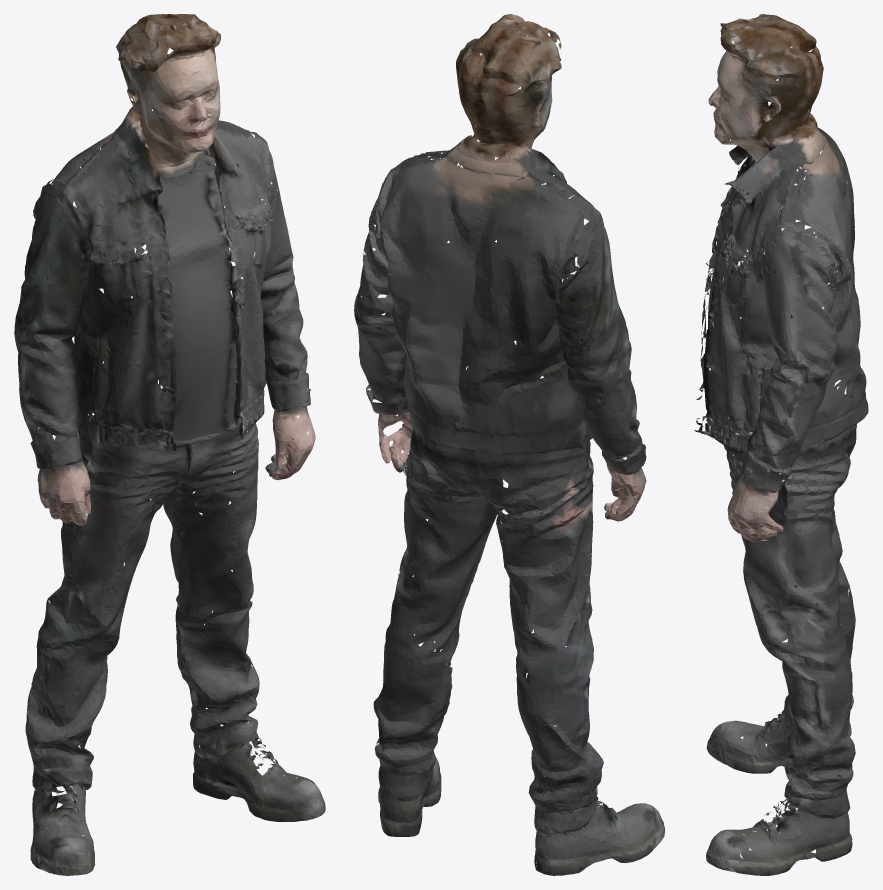
Rendered from musk.glb.
3 views of the same model, side by side, from view 1: azimuth 30°, elevation 25°; view 2: azimuth 150°, elevation 25°; view 3: azimuth 270°, elevation 25° (orthographic). The views are drawn at different scales.
Size of the model in its own units: 0.6765 by 1.88 by 0.3755.
